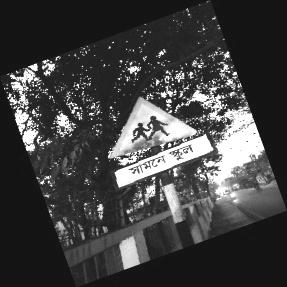School-in-front: (109, 96, 213, 189)
